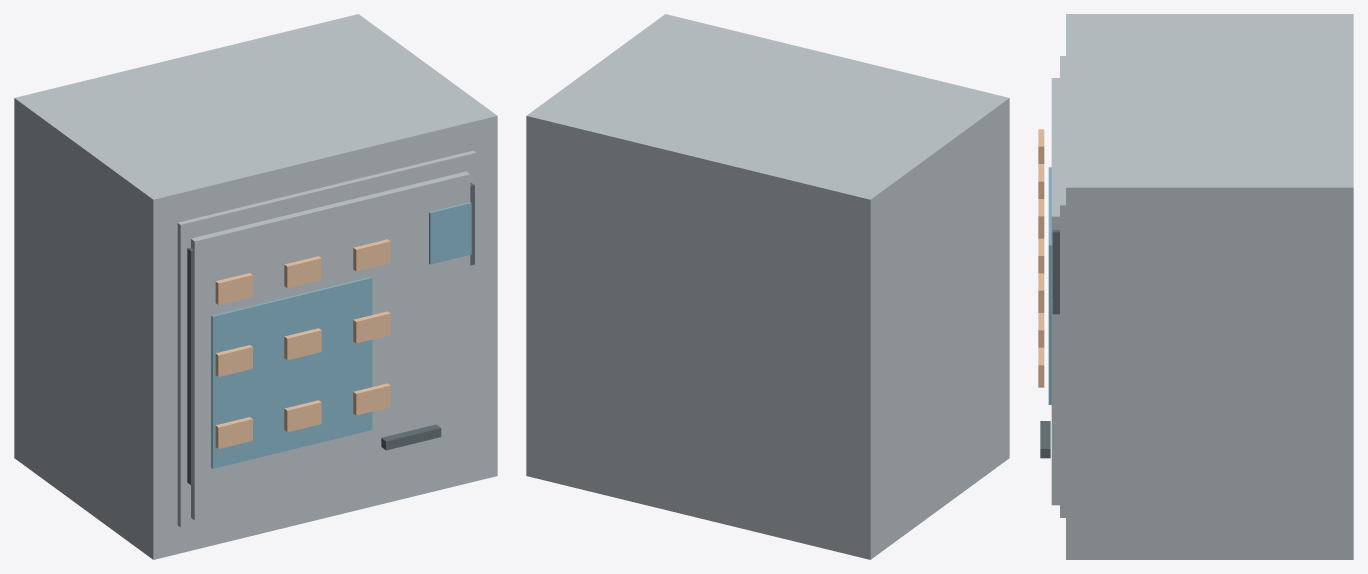
The model's file is vending_machine.glb.
3 views of the same model, side by side, from view 1: azimuth 30°, elevation 25°; view 2: azimuth 150°, elevation 25°; view 3: azimuth 270°, elevation 25° (orthographic). The views are drawn at different scales.
Bounding box in the file's own units: 1 × 1 × 0.7675.
